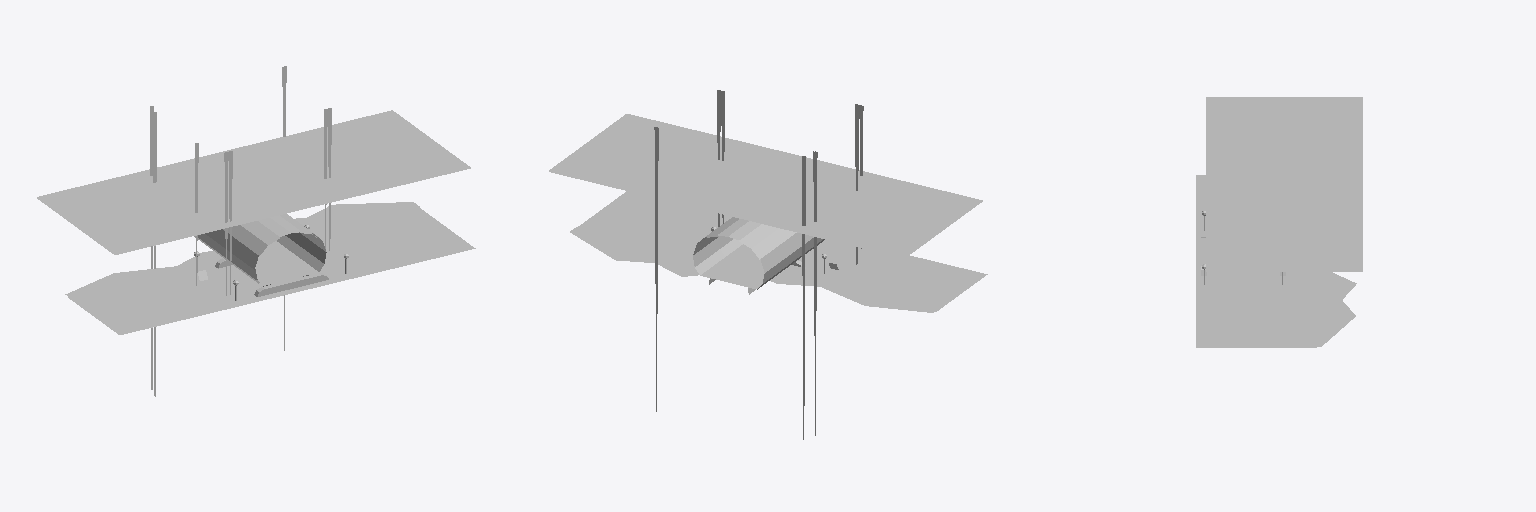
Rendered from MARINE1-4.obj.
3 views of the same model, side by side, from view 1: azimuth 30°, elevation 25°; view 2: azimuth 150°, elevation 25°; view 3: azimuth 270°, elevation 25° (orthographic).
Parts seen in each view (by area): view 1: polygon10, polygon4, polygon6, polygon13, polygon11, polygon12, polygon5, polygon1, polygon0; view 2: polygon10, polygon4, polygon6, polygon13, polygon11, polygon5, polygon12; view 3: polygon10, polygon4, polygon11.
Boxes of the visible parts, <box> form: polygon10: <box>37,110,470,253</box>; polygon4: <box>68,207,475,334</box>; polygon6: <box>194,214,326,283</box>; polygon13: <box>150,66,327,396</box>; polygon11: <box>65,202,419,298</box>; polygon12: <box>255,215,325,282</box>; polygon5: <box>255,245,309,283</box>; polygon1: <box>215,258,328,296</box>; polygon0: <box>229,108,331,294</box>; polygon10: <box>549,114,982,257</box>; polygon4: <box>577,191,987,311</box>; polygon6: <box>693,217,824,289</box>; polygon13: <box>654,91,863,439</box>; polygon11: <box>570,227,937,312</box>; polygon5: <box>710,248,764,286</box>; polygon12: <box>700,219,759,259</box>; polygon10: <box>1206,97,1362,270</box>; polygon4: <box>1196,175,1341,347</box>; polygon11: <box>1309,272,1356,346</box>.
Bounding box in the file's own units: 10.5 × 8 × 4.27.